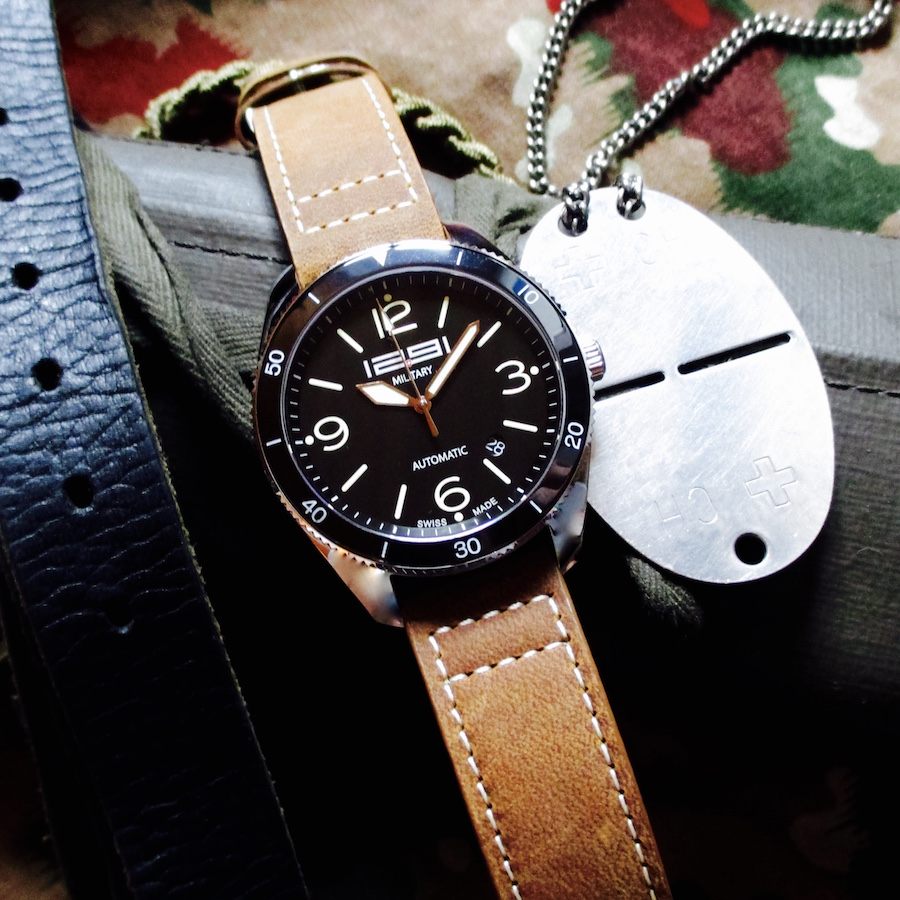clock: (253, 240, 596, 584)
